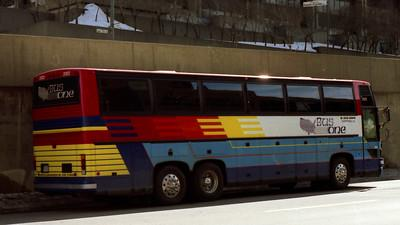bus: (27, 63, 390, 198)
